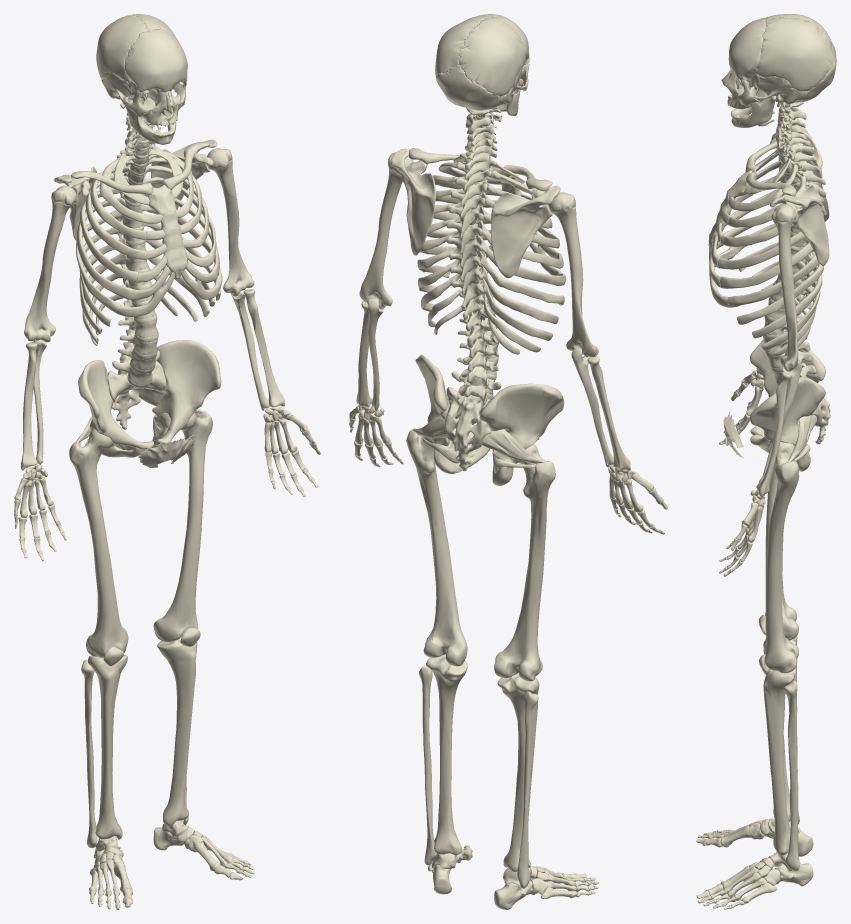
File: skeletal.glb
The picture shows the model from 3 angles, left to right: view 1: azimuth 30°, elevation 25°; view 2: azimuth 150°, elevation 25°; view 3: azimuth 270°, elevation 25°; orthographic projection. The views are drawn at different scales.
Visible parts, largest first — view 1: rib-cage, femur, pelvis, skull, lower-leg-bones, spine, humerus, hand-bones, foot-bones, forearm-bones, scapulae, clavicles; view 2: spine, rib-cage, femur, lower-leg-bones, pelvis, skull, scapulae, humerus, forearm-bones, foot-bones, hand-bones, clavicles; view 3: rib-cage, skull, femur, lower-leg-bones, pelvis, spine, foot-bones, scapulae, humerus, hand-bones, forearm-bones, clavicles.
Part boxes in pixels (<box>): rib-cage: <box>76,145,222,345</box>; femur: <box>69,411,212,657</box>; pelvis: <box>75,340,221,467</box>; skull: <box>96,14,187,144</box>; lower-leg-bones: <box>81,636,197,848</box>; spine: <box>107,99,166,429</box>; humerus: <box>24,148,254,342</box>; hand-bones: <box>14,406,320,561</box>; foot-bones: <box>89,820,254,909</box>; forearm-bones: <box>21,289,284,470</box>; scapulae: <box>54,139,217,240</box>; clavicles: <box>71,142,209,195</box>; spine: <box>445,107,501,471</box>; rib-cage: <box>417,156,566,354</box>; femur: <box>406,428,555,681</box>; lower-leg-bones: <box>419,654,539,888</box>; pelvis: <box>413,354,564,485</box>; skull: <box>435,14,529,116</box>; scapulae: <box>391,148,560,278</box>; humerus: <box>359,152,598,357</box>; forearm-bones: <box>356,298,630,470</box>; foot-bones: <box>428,845,598,909</box>; hand-bones: <box>349,404,667,534</box>; clavicles: <box>408,148,552,191</box>; rib-cage: <box>708,144,824,356</box>; skull: <box>721,14,836,127</box>; femur: <box>764,442,799,673</box>; lower-leg-bones: <box>763,636,799,870</box>; pelvis: <box>723,330,825,471</box>; spine: <box>763,102,830,444</box>; foot-bones: <box>696,818,813,909</box>; scapulae: <box>770,124,829,266</box>; humerus: <box>771,131,798,371</box>; hand-bones: <box>719,370,765,576</box>; forearm-bones: <box>756,360,801,497</box>; clavicles: <box>745,138,796,196</box>.
Bounding box in the file's own units: 1.3 × 3.41 × 0.5081.
